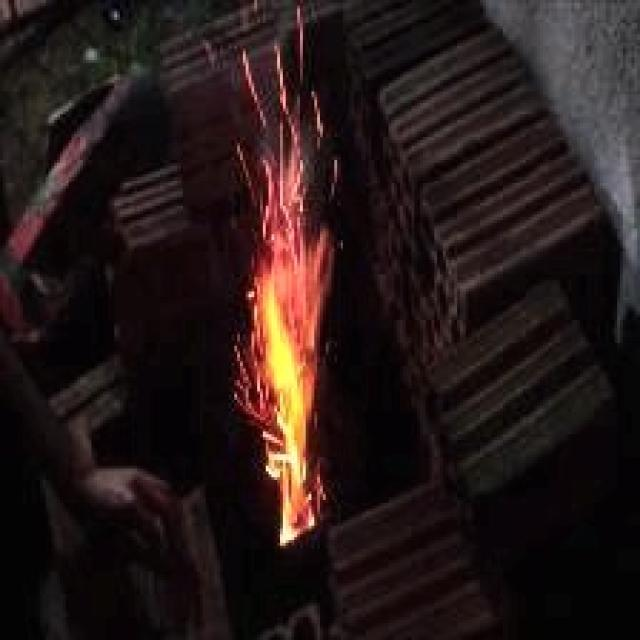fire: (194, 47, 380, 576)
